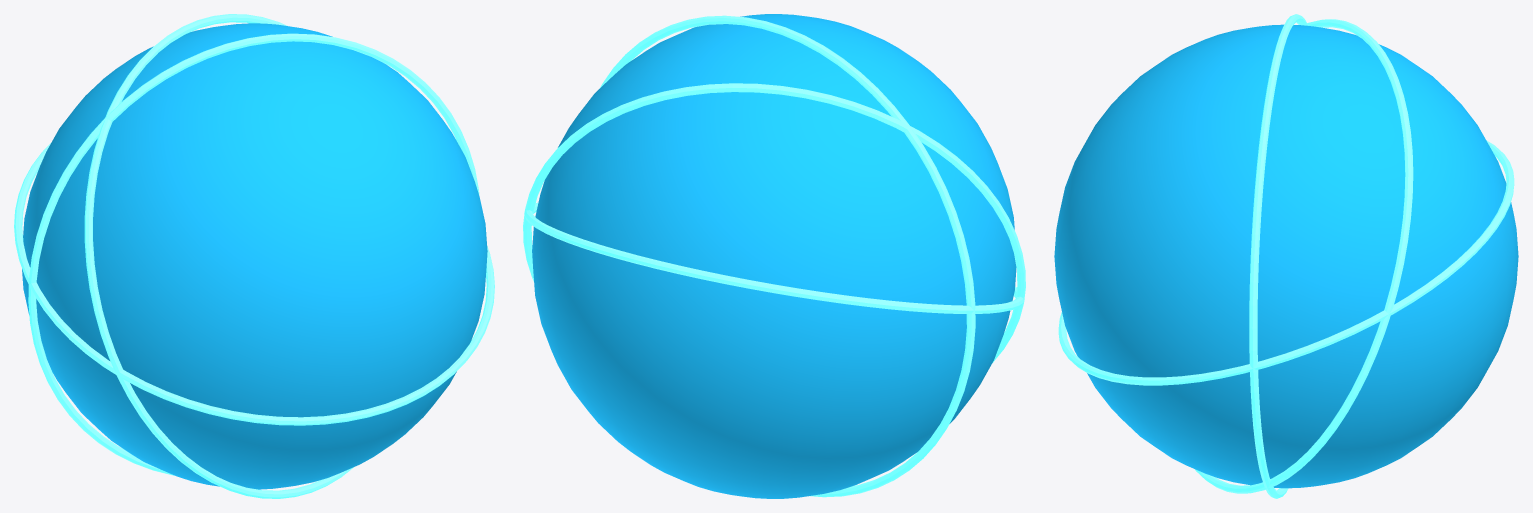
The model's file is orb-v3.glb.
The picture shows the model from 3 angles, left to right: view 1: azimuth 30°, elevation 25°; view 2: azimuth 150°, elevation 25°; view 3: azimuth 270°, elevation 25°; orthographic projection. The views are drawn at different scales.
Parts seen in each view (by area): view 1: Gliding orb, Orb energy ring.002, Orb energy ring.001, Orb energy ring; view 2: Gliding orb, Orb energy ring.002, Orb energy ring.001, Orb energy ring; view 3: Gliding orb, Orb energy ring.001, Orb energy ring, Orb energy ring.002.
Boxes of the visible parts, <box> form: Gliding orb: <box>22,23,487,489</box>; Orb energy ring.002: <box>28,33,479,475</box>; Orb energy ring.001: <box>84,14,353,498</box>; Orb energy ring: <box>14,142,494,425</box>; Gliding orb: <box>532,14,1016,498</box>; Orb energy ring.002: <box>600,15,975,497</box>; Orb energy ring.001: <box>523,83,1025,362</box>; Orb energy ring: <box>524,202,1024,313</box>; Gliding orb: <box>1054,24,1518,488</box>; Orb energy ring.001: <box>1194,19,1413,493</box>; Orb energy ring: <box>1058,140,1514,385</box>; Orb energy ring.002: <box>1249,14,1307,498</box>.
Bounding box in the file's own units: 1.51 × 1.51 × 1.44.
